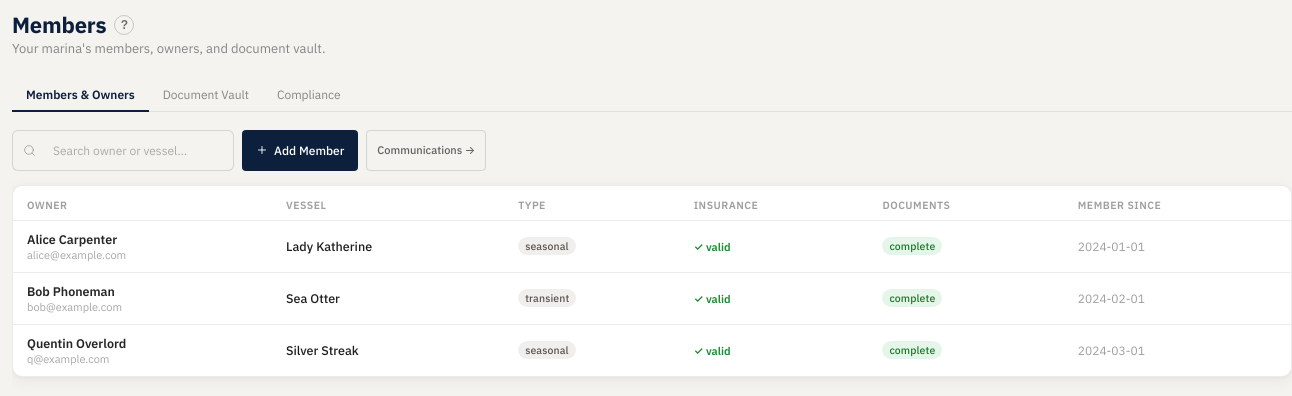
Test case: Members search input › matches by vessel name substring
This screenshot has width=1292, height=396.
Step 1. Type "Silver" into the field named "Search members" → (133, 150), box [43,137,223,164]
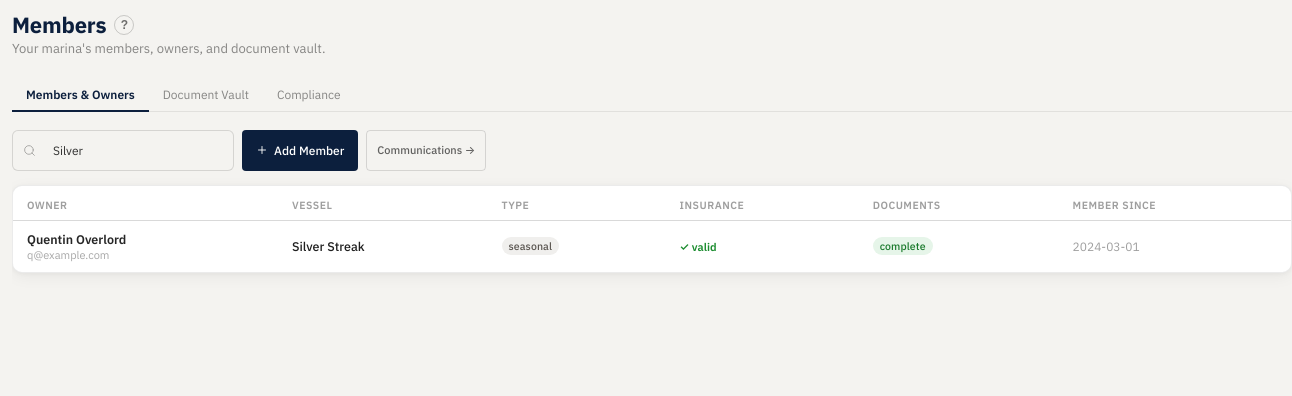
Expected: the text "Quentin Overlord" is shown, [27,231,126,247]
Result: the text "Alice Carpenter" is gone
